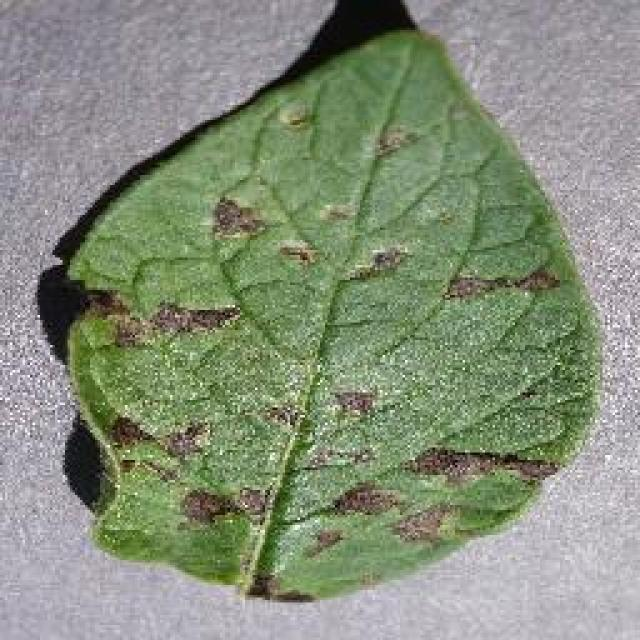early_blight: (52, 25, 608, 607)
